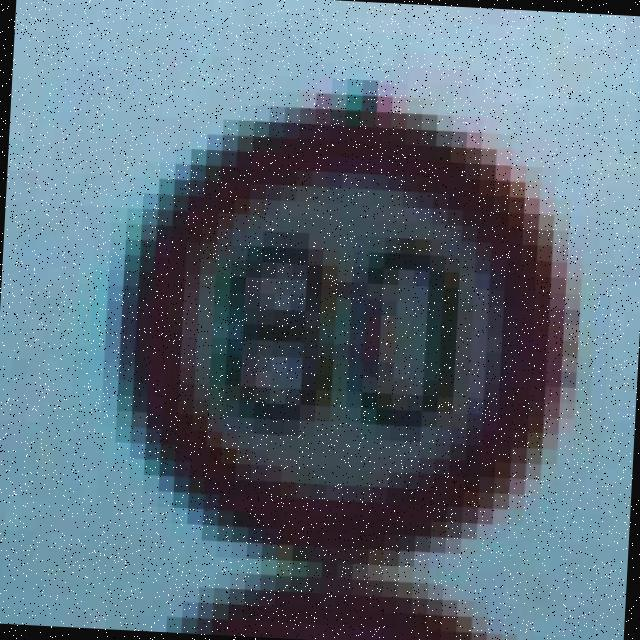Ograniczenie predkosci do 80: (113, 103, 572, 571)
